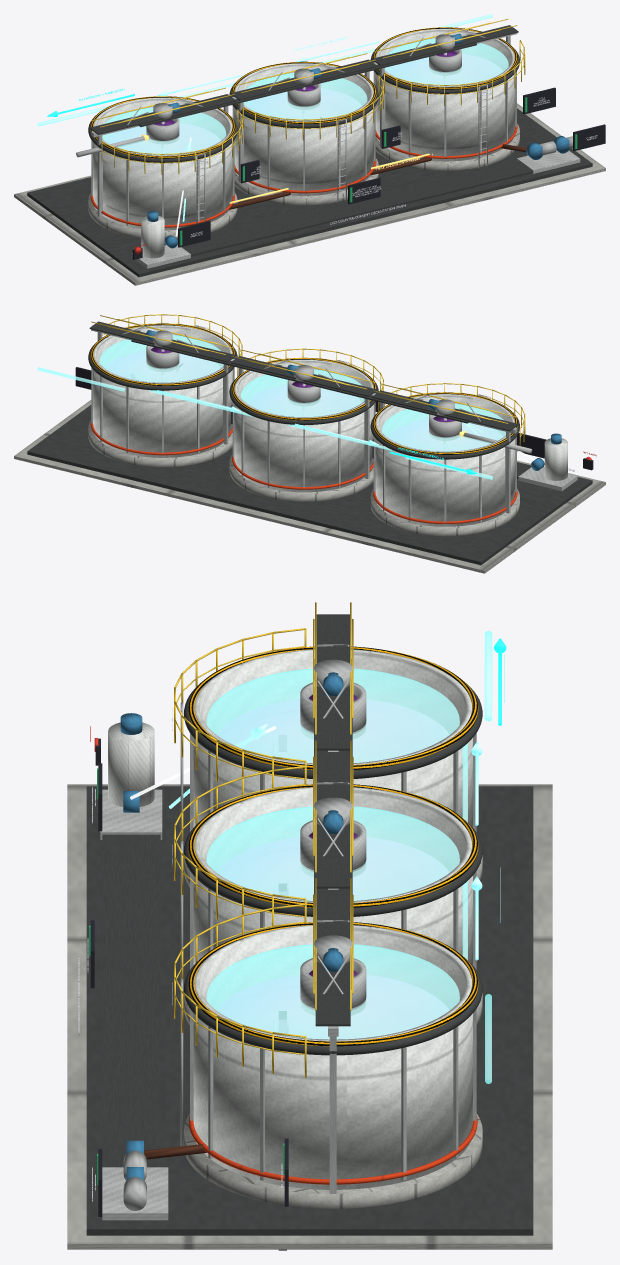
File: CCDThickener_IndustrialUV.fbx
3 renders of one model, top to bottom at view 1: azimuth 30°, elevation 25°; view 2: azimuth 150°, elevation 25°; view 3: azimuth 270°, elevation 25°, orthographic. The views are drawn at different scales.
Visible parts, largest first — view 1: CCD_DarkSkidPerimeter_Frame, CCD2_OpenCircularTank_Wall, CCD3_OpenCircularTank_Wall, CCD1_OpenCircularTank_Wall, CCD_ConcreteSecondaryContainment_Pad, CCD_GratedWalkway_Main, CCD2_ClearPLS_Surface, CCD3_ClearPLS_Surface, CCD1_ClearPLS_Surface, CCD3_Plinth, CCD2_Plinth, CCD2_DriveBridge_WalkwayGrating (+25 smaller); view 2: CCD_DarkSkidPerimeter_Frame, CCD1_OpenCircularTank_Wall, CCD2_OpenCircularTank_Wall, CCD3_OpenCircularTank_Wall, CCD_ConcreteSecondaryContainment_Pad, CCD3_ClearPLS_Surface, CCD2_ClearPLS_Surface, CCD1_ClearPLS_Surface, CCD1_Plinth, CCD3_Plinth, CCD2_Plinth, CCD2_DriveBridge_WalkwayGrating (+22 smaller); view 3: CCD_DarkSkidPerimeter_Frame, CCD3_OpenCircularTank_Wall, CCD_ConcreteSecondaryContainment_Pad, CCD_GratedWalkway_Main, CCD1_OpenCircularTank_Wall, CCD2_OpenCircularTank_Wall, CCD3_ClearPLS_Surface, CCD2_ClearPLS_Surface, CCD1_ClearPLS_Surface, CCD3_Plinth, CCD3_DriveBridge_WalkwayGrating, CCD1_DriveBridge_WalkwayGrating (+15 smaller).
Boxes of the visible parts, x1,y1,x2,y2 form: CCD_DarkSkidPerimeter_Frame: (27,108,592,277); CCD2_OpenCircularTank_Wall: (234,63,373,195); CCD3_OpenCircularTank_Wall: (375,28,515,161); CCD1_OpenCircularTank_Wall: (93,97,232,230); CCD_ConcreteSecondaryContainment_Pad: (14,103,605,285); CCD_GratedWalkway_Main: (177,160,533,256); CCD2_ClearPLS_Surface: (243,73,367,120); CCD3_ClearPLS_Surface: (384,38,508,86); CCD1_ClearPLS_Surface: (102,107,226,155); CCD3_Plinth: (375,123,519,170); CCD2_Plinth: (234,158,378,205); CCD2_DriveBridge_WalkwayGrating: (231,59,377,100); CCD_DarkSkidPerimeter_Frame: (27,405,592,565); CCD1_OpenCircularTank_Wall: (375,394,515,526); CCD2_OpenCircularTank_Wall: (234,359,373,492); CCD3_OpenCircularTank_Wall: (93,325,232,457); CCD_ConcreteSecondaryContainment_Pad: (14,400,605,573); CCD3_ClearPLS_Surface: (99,335,223,382); CCD2_ClearPLS_Surface: (241,369,364,416); CCD1_ClearPLS_Surface: (382,404,505,451); CCD1_Plinth: (370,489,519,536); CCD3_Plinth: (88,420,232,467); CCD2_Plinth: (229,454,373,501); CCD2_DriveBridge_WalkwayGrating: (231,356,377,396); CCD_DarkSkidPerimeter_Frame: (86,786,533,1235); CCD3_OpenCircularTank_Wall: (193,925,472,1189); CCD_ConcreteSecondaryContainment_Pad: (67,784,552,1249); CCD_GratedWalkway_Main: (102,834,160,1167); CCD1_OpenCircularTank_Wall: (193,649,472,827); CCD2_OpenCircularTank_Wall: (193,787,472,965); CCD3_ClearPLS_Surface: (206,944,459,1039); CCD2_ClearPLS_Surface: (206,806,459,900); CCD1_ClearPLS_Surface: (206,668,459,763); CCD3_Plinth: (183,1113,482,1208); CCD3_DriveBridge_WalkwayGrating: (315,889,350,1026); CCD1_DriveBridge_WalkwayGrating: (315,614,350,750).
Size of the model in its own units: 28.45 by 8.71 by 12.5.
Materials: 20 (12 with a texture image).
